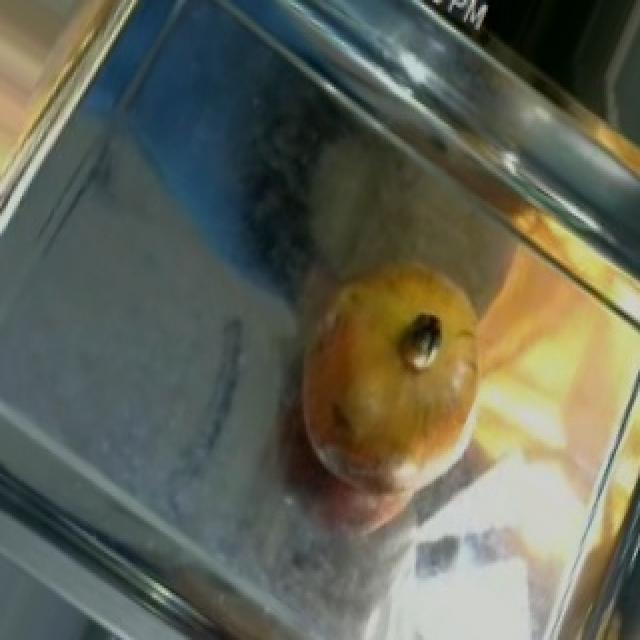fruit: (264, 234, 526, 528)
